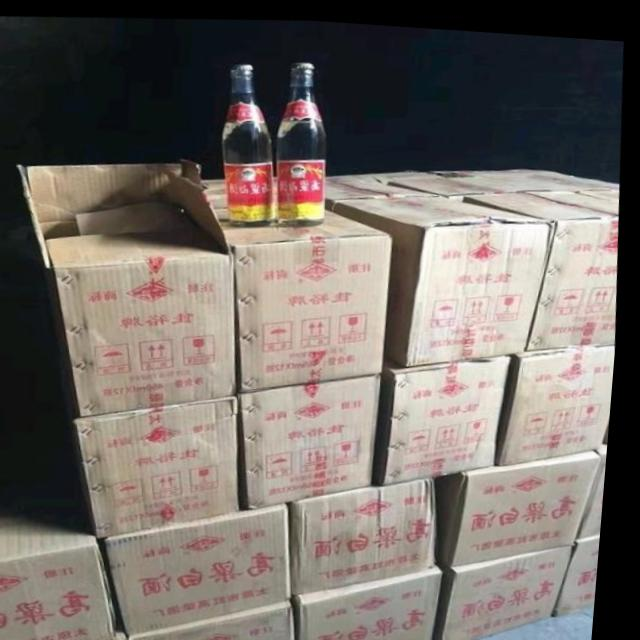box: (18, 155, 244, 416), (336, 190, 559, 360), (218, 203, 396, 388), (464, 182, 622, 343), (111, 498, 300, 632), (81, 393, 250, 537), (443, 441, 610, 560), (248, 366, 388, 506), (380, 347, 516, 480), (298, 470, 446, 591), (0, 501, 127, 640), (503, 336, 620, 457), (445, 537, 581, 640), (305, 560, 452, 640), (137, 596, 307, 640), (362, 162, 620, 187), (328, 169, 446, 204), (562, 526, 608, 609), (585, 437, 614, 530)
